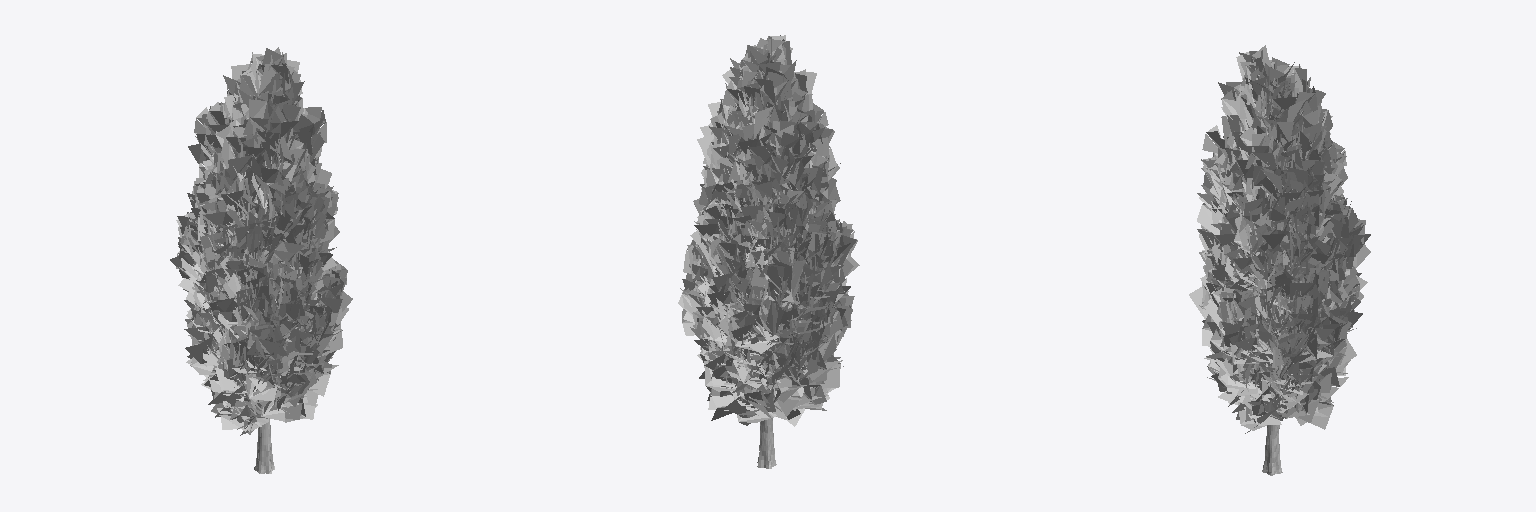
3 views of the same model, side by side, from view 1: azimuth 30°, elevation 25°; view 2: azimuth 150°, elevation 25°; view 3: azimuth 270°, elevation 25° (orthographic).
Visible parts, largest first — view 1: Bistro_Research_Exterior__lod0_Italian_Cypress6_3933; view 2: Bistro_Research_Exterior__lod0_Italian_Cypress6_3933; view 3: Bistro_Research_Exterior__lod0_Italian_Cypress6_3933.
Part boxes in pixels (x1,y1,x2,y2): Bistro_Research_Exterior__lod0_Italian_Cypress6_3933: (170,47,352,473); Bistro_Research_Exterior__lod0_Italian_Cypress6_3933: (678,35,859,468); Bistro_Research_Exterior__lod0_Italian_Cypress6_3933: (1189,45,1370,475).
Bounding box in the file's own units: 2.49 × 6.7 × 2.62.